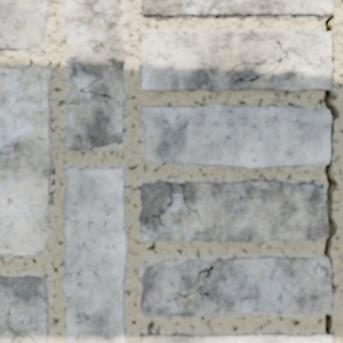brick: (142, 104, 330, 167), (140, 31, 331, 91), (140, 181, 327, 241), (142, 257, 332, 316), (63, 168, 126, 342), (0, 67, 51, 254), (63, 0, 124, 149), (0, 276, 46, 342), (142, 0, 299, 16), (0, 0, 47, 49), (141, 334, 332, 342), (301, 0, 332, 14)
crack: (322, 2, 340, 340), (152, 181, 190, 226), (37, 67, 45, 87), (298, 0, 303, 14)
